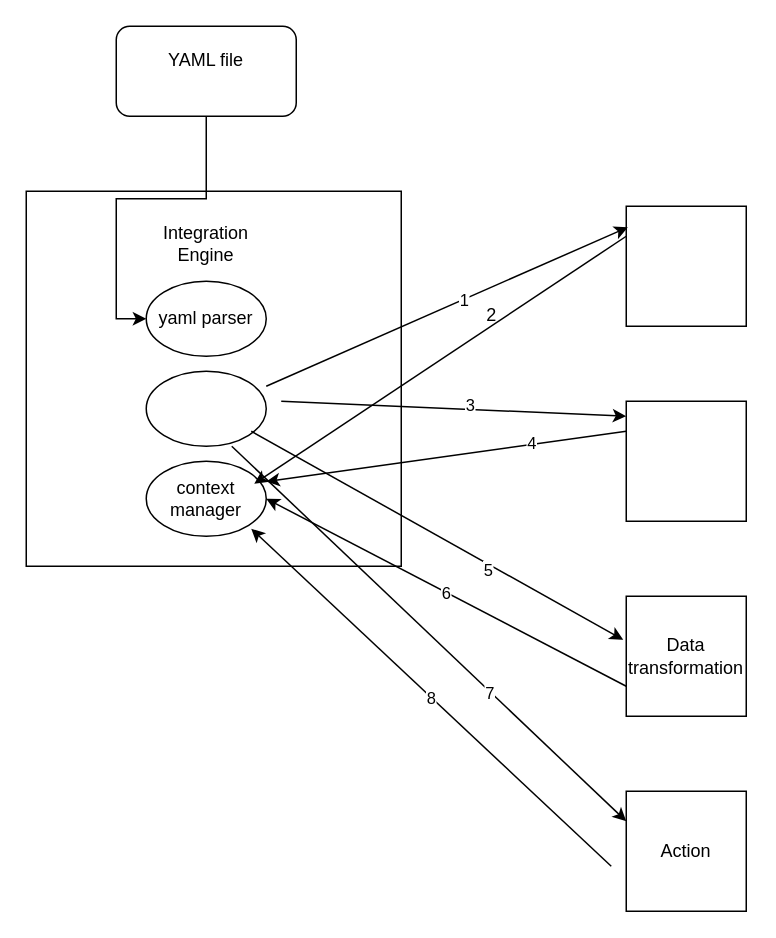
Image size: 776x938. Some labels were removed from this diagram. Each missing label, with the centre of its shape:
"Authentication Updates context as per auth req." goes at point (685, 265).
"Request interact with third party" goes at point (685, 460).
"step executor" goes at point (205, 408).
